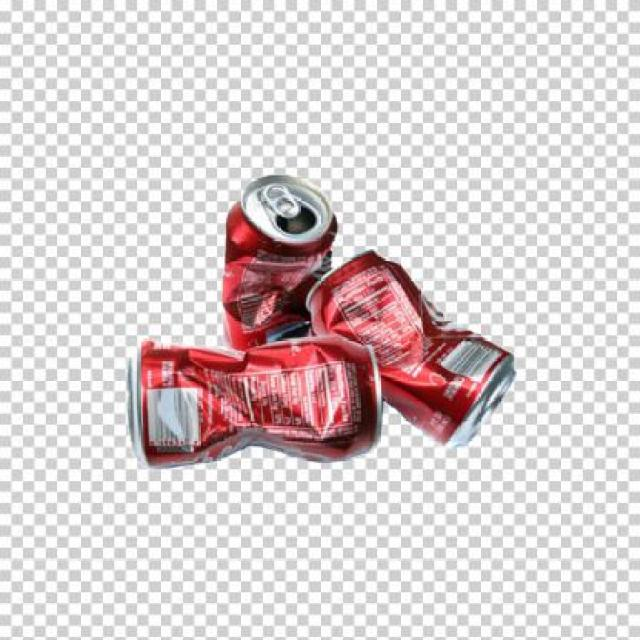non-organic waste: (303, 245, 542, 444), (120, 320, 382, 478), (208, 143, 349, 360)
